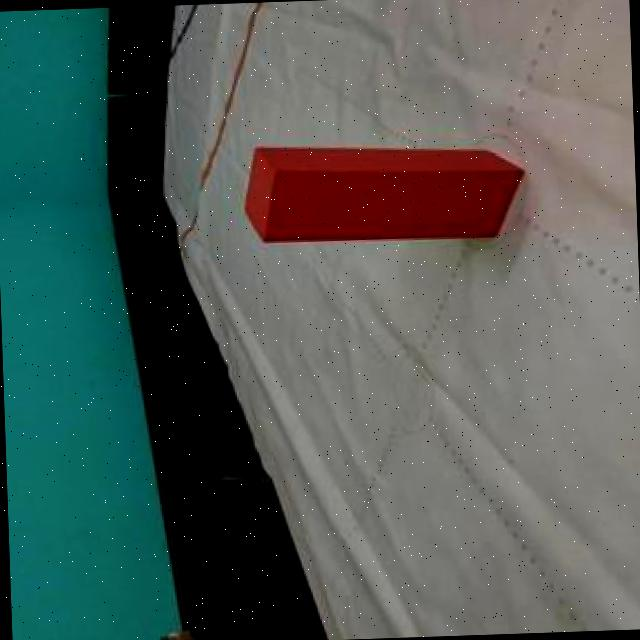redbox: (238, 137, 527, 246)
